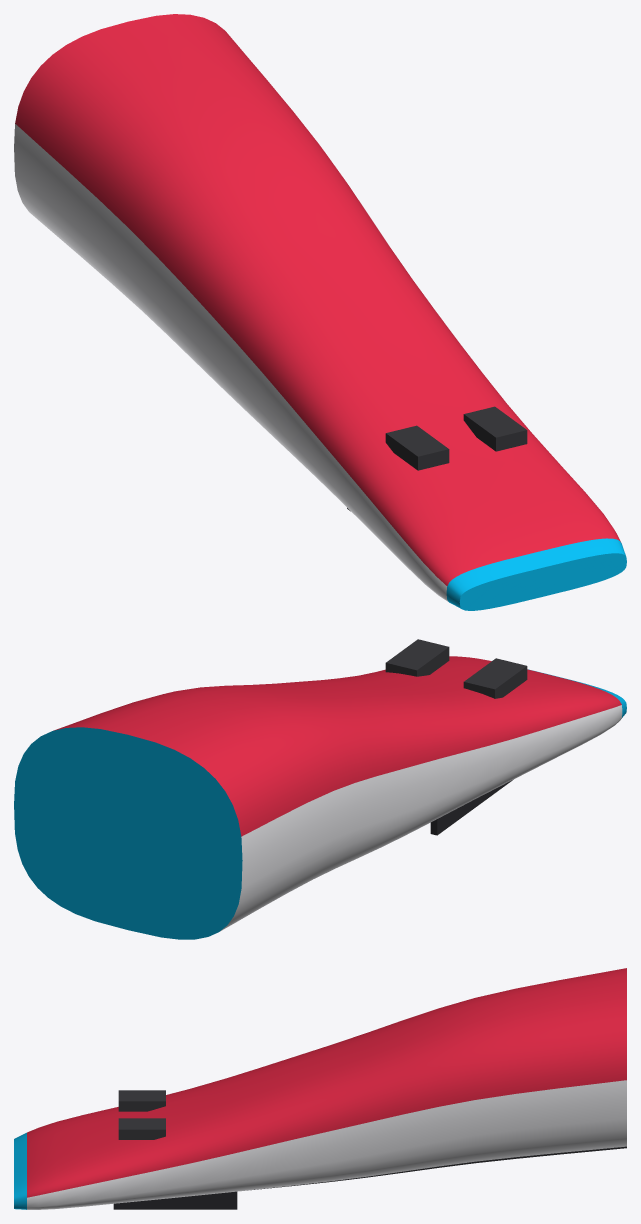
Rendered from duckbill.glb.
3 renders of one model, top to bottom at view 1: azimuth 30°, elevation 25°; view 2: azimuth 150°, elevation 25°; view 3: azimuth 270°, elevation 25°, orthographic. The views are drawn at different scales.
Parts seen in each view (by area): view 1: Nose_duckbill; view 2: Nose_duckbill; view 3: Nose_duckbill.
Part boxes in pixels (box(x1,y1,x2,y2)): Nose_duckbill: box(14, 14, 626, 610); Nose_duckbill: box(14, 639, 626, 939); Nose_duckbill: box(14, 968, 626, 1209).
Bounding box in the file's own units: 0.41 × 0.485 × 1.29.
